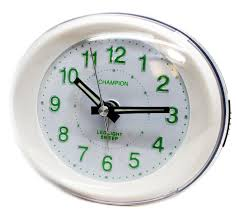alarm_clock: (15, 10, 229, 204), (15, 23, 229, 204)
